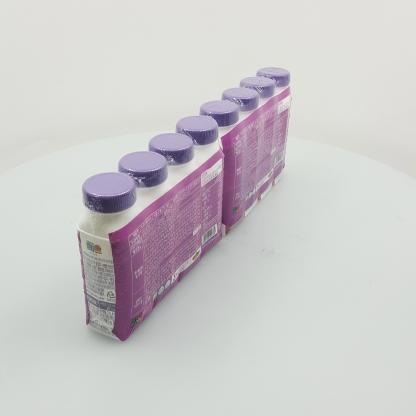-------------400ML: (76, 116, 225, 341), (196, 67, 292, 236)
